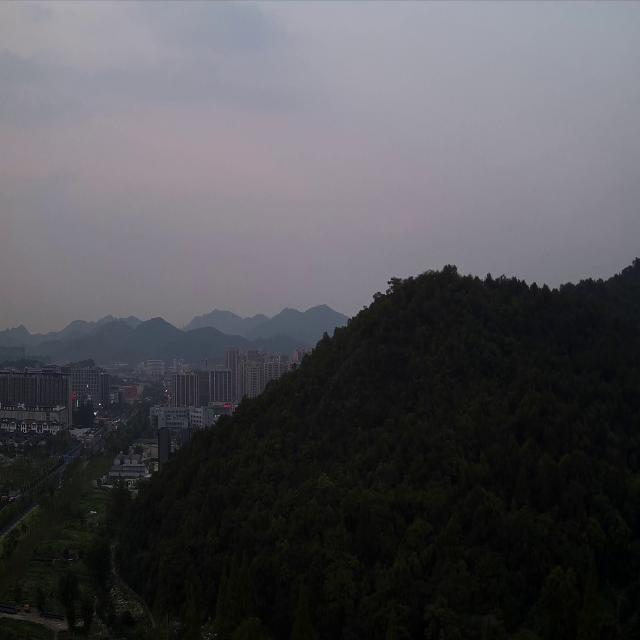drone: (498, 273, 505, 279)
